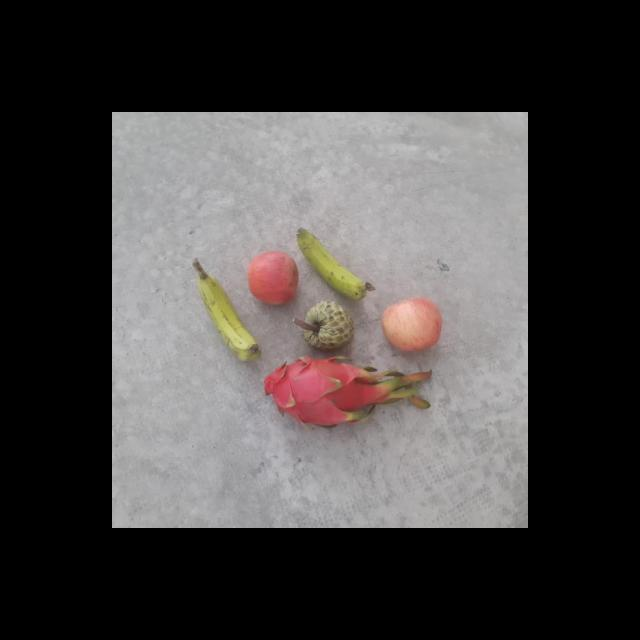Sakya fruit: (288, 274, 342, 332)
apple: (378, 294, 442, 356), (243, 248, 303, 308)
banana: (191, 266, 265, 366), (295, 222, 374, 300)
pitaya: (264, 356, 387, 428)
